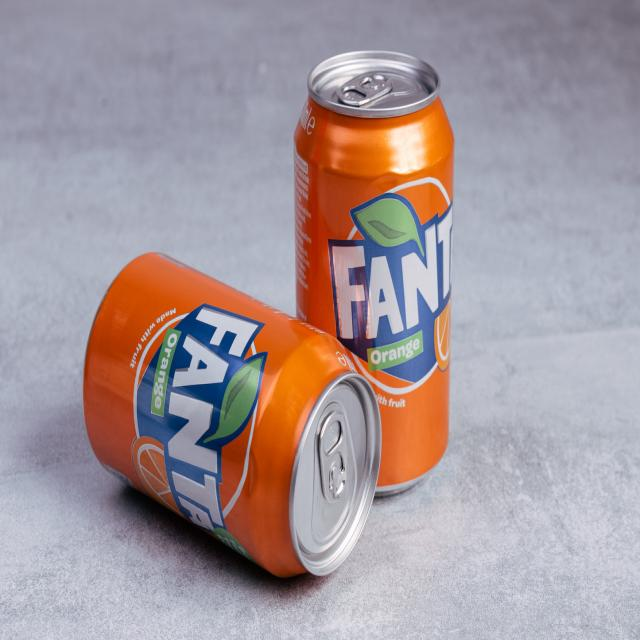fanta: (70, 245, 379, 570), (282, 59, 459, 492)
